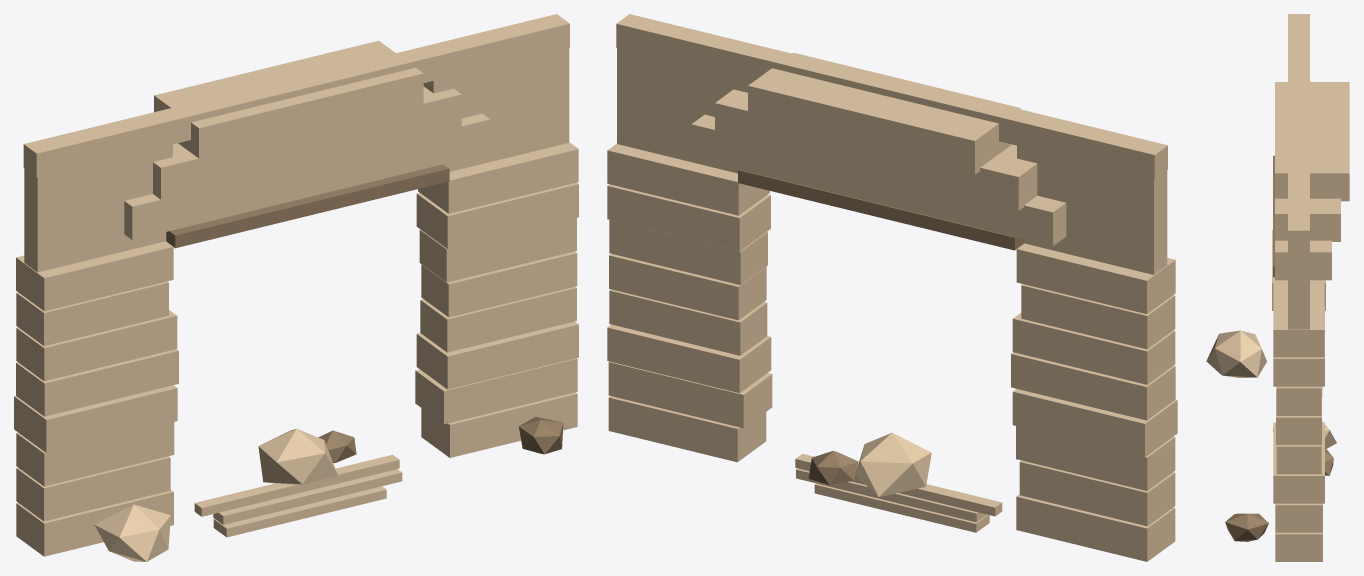
File: rockshelter.glb
3 views of the same model, side by side, from view 1: azimuth 30°, elevation 25°; view 2: azimuth 150°, elevation 25°; view 3: azimuth 270°, elevation 25° (orthographic). The views are drawn at different scales.
Parts seen in each view (by area): view 1: Sand_blankTop, Sand_corbel2, Sand_corbel0, Sand_blank-1, Sand_corbel1, Sand_blank1, Sand_slabL7, Sand_slabR2, Sand_slabL3, Sand_slabR7, Sand_slabL4, Sand_slabR6 (+18 smaller); view 2: Sand_blankTop, Sand_corbel2, Sand_blank-1, Sand_corbel0, Sand_corbel1, Sand_blank1, Sand_slabL7, Sand_slabR2, Sand_slabL3, Sand_slabR7, Sand_slabL4, Sand_slabR6 (+16 smaller); view 3: Sand_corbel2, Sand_blankTop, Sand_slabR7, Sand_boulderL, Sand_slabR2, Sand_corbel1, Sand_blank1, Sand_slabR6, Sand_slabR0, Sand_slabR1, Sand_corbel0, Sand_slabR4 (+4 smaller).
Boxes of the visible parts, <box> form: Sand_blankTop: <box>23,14,569,177</box>; Sand_corbel2: <box>154,40,423,159</box>; Sand_corbel0: <box>124,113,490,239</box>; Sand_blank-1: <box>24,144,172,272</box>; Sand_corbel1: <box>153,86,461,199</box>; Sand_blank1: <box>423,48,569,171</box>; Sand_slabL7: <box>16,241,173,311</box>; Sand_slabR2: <box>416,321,578,389</box>; Sand_slabL3: <box>14,385,177,452</box>; Sand_slabR7: <box>418,142,578,213</box>; Sand_slabL4: <box>16,349,178,416</box>; Sand_slabR6: <box>416,182,578,248</box>; Sand_blankTop: <box>616,14,1167,179</box>; Sand_corbel2: <box>748,52,1020,174</box>; Sand_blank-1: <box>1017,145,1167,274</box>; Sand_corbel0: <box>691,114,1066,246</box>; Sand_corbel1: <box>715,89,1037,210</box>; Sand_blank1: <box>617,48,753,173</box>; Sand_slabL7: <box>1016,243,1175,313</box>; Sand_slabR2: <box>607,324,771,393</box>; Sand_slabL3: <box>1012,389,1177,457</box>; Sand_slabR7: <box>607,143,769,215</box>; Sand_slabL4: <box>1011,352,1175,420</box>; Sand_slabR6: <box>607,184,770,251</box>; Sand_corbel2: <box>1275,82,1349,201</box>; Sand_blankTop: <box>1288,14,1309,250</box>; Sand_slabR7: <box>1273,277,1324,357</box>; Sand_boulderL: <box>1206,330,1266,377</box>; Sand_slabR2: <box>1273,422,1324,503</box>; Sand_corbel1: <box>1275,198,1340,241</box>; Sand_blank1: <box>1288,250,1309,329</box>; Sand_slabR6: <box>1273,306,1324,386</box>; Sand_slabR0: <box>1275,532,1322,561</box>; Sand_slabR1: <box>1275,503,1322,532</box>; Sand_corbel0: <box>1275,240,1331,280</box>; Sand_slabR4: <box>1276,386,1321,444</box>.
Size of the model in its own units: 7 by 5.31 by 1.96.
